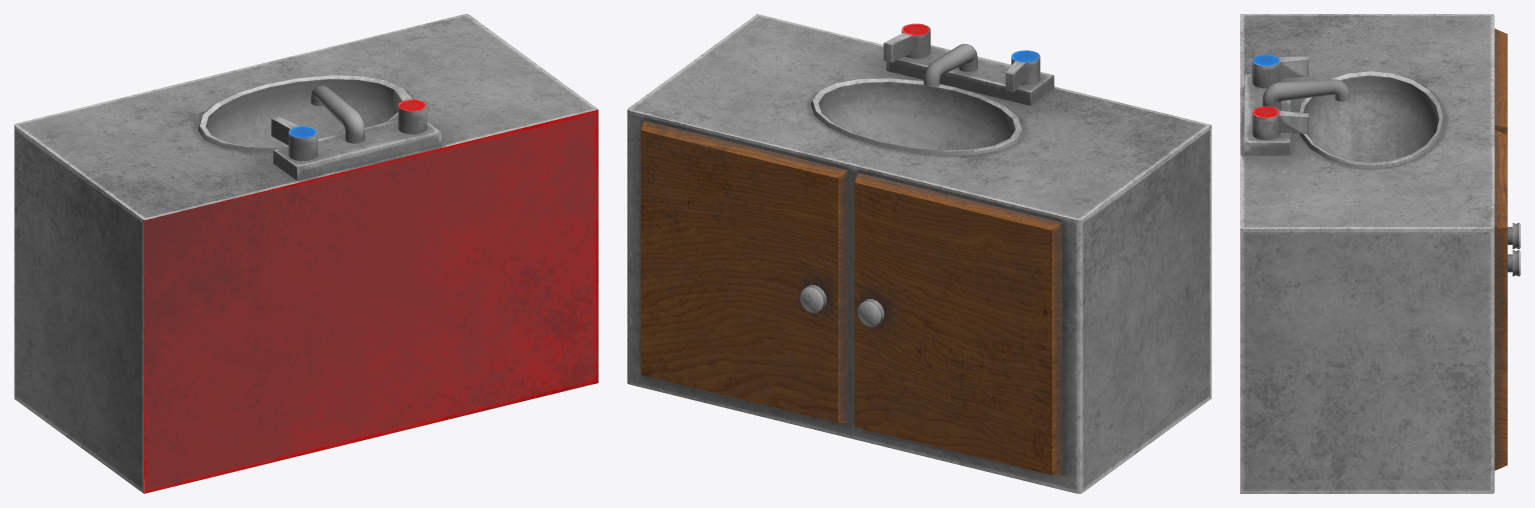
The model's file is WashroomSink.fbx.
The picture shows the model from 3 angles, left to right: view 1: azimuth 30°, elevation 25°; view 2: azimuth 150°, elevation 25°; view 3: azimuth 270°, elevation 25°; orthographic projection. The views are drawn at different scales.
Parts seen in each view (by area): view 1: BathroomSink; view 2: BathroomSink; view 3: BathroomSink.
Boxes of the visible parts, <box> form: BathroomSink: <box>14,14,598,493</box>; BathroomSink: <box>627,14,1211,493</box>; BathroomSink: <box>1240,14,1520,493</box>.
Bounding box in the file's own units: 1.2 × 0.661 × 0.7982.
